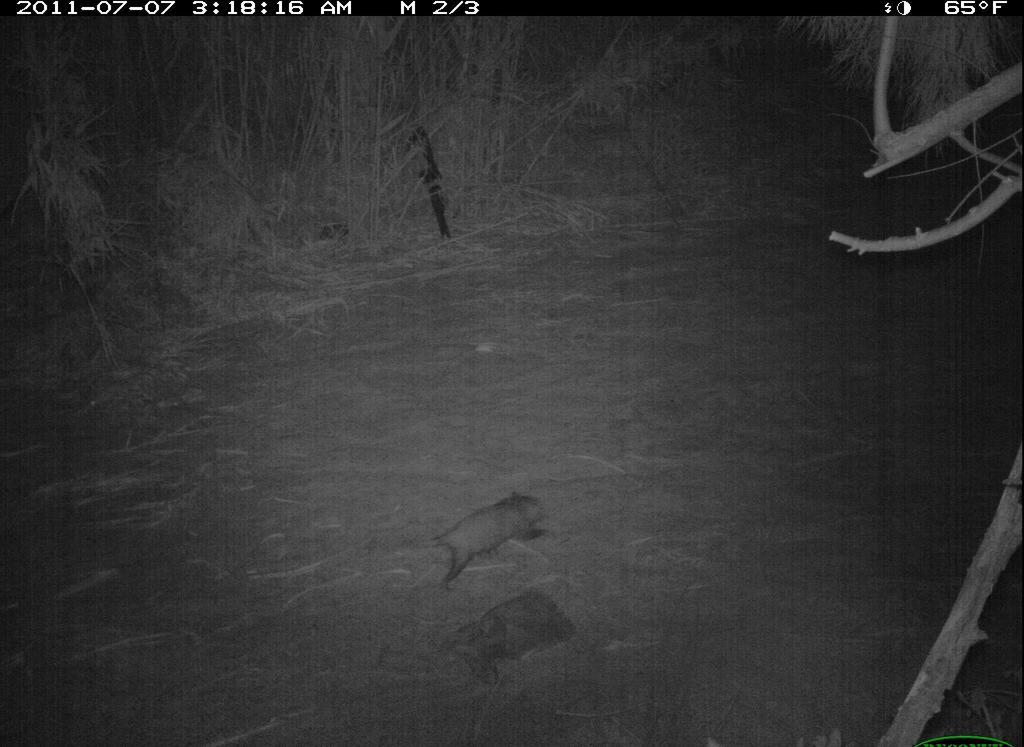opossum: (386, 478, 553, 592)
